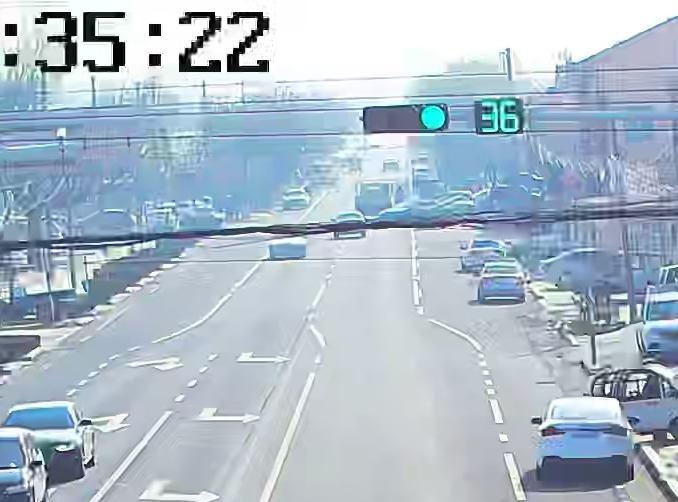green: (417, 104, 449, 130)
greentime: (479, 97, 521, 134)
